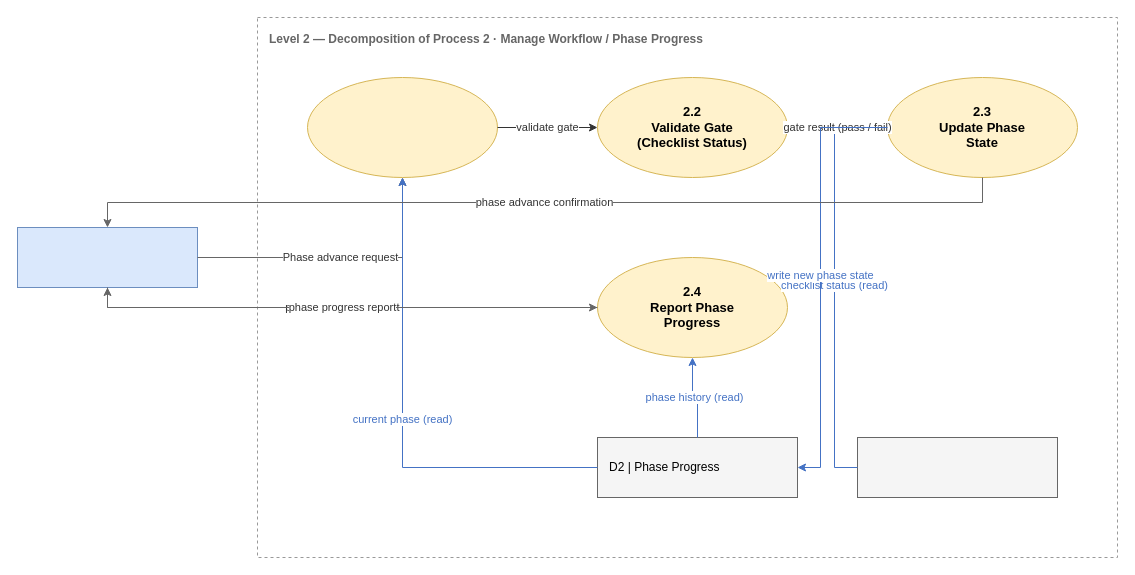
Image size: 1135x575. Some labels were removed from this diagram. The shapes that lost their labels are listed below. From the top down, each one's box as (x1, y1, x2, y2) in pixels, then its label:
(306, 76, 498, 178): 2.1 Receive Advance Request
(16, 226, 198, 288): Project Manager
(856, 436, 1058, 498): D3 | Checklist Items
